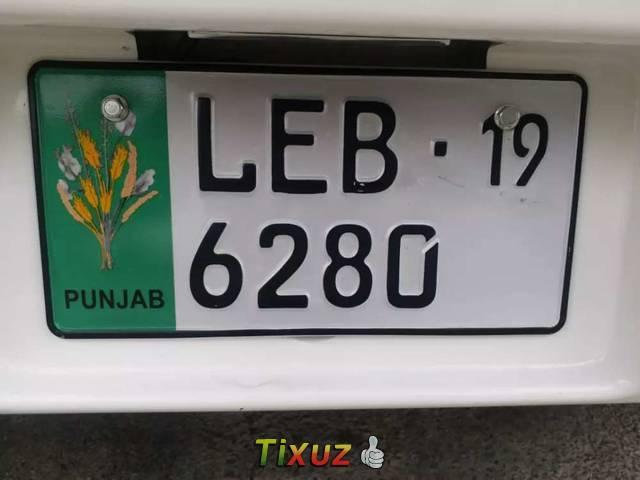plate: (25, 56, 592, 340)
